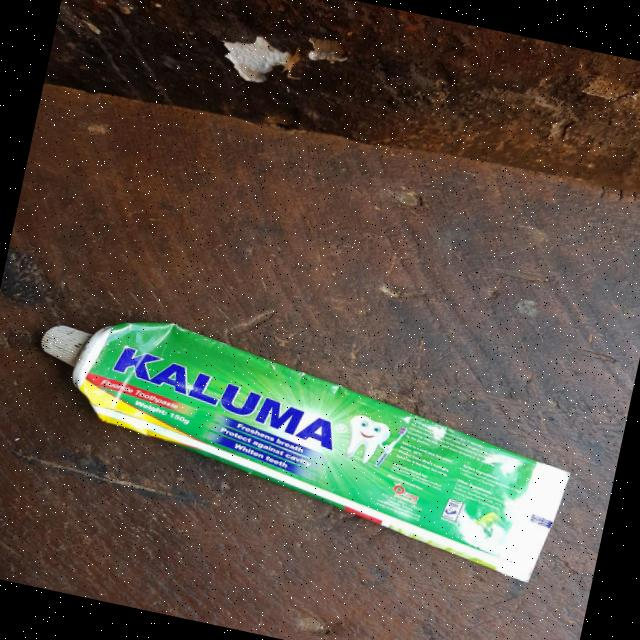Toothpaste: (7, 289, 598, 592)
